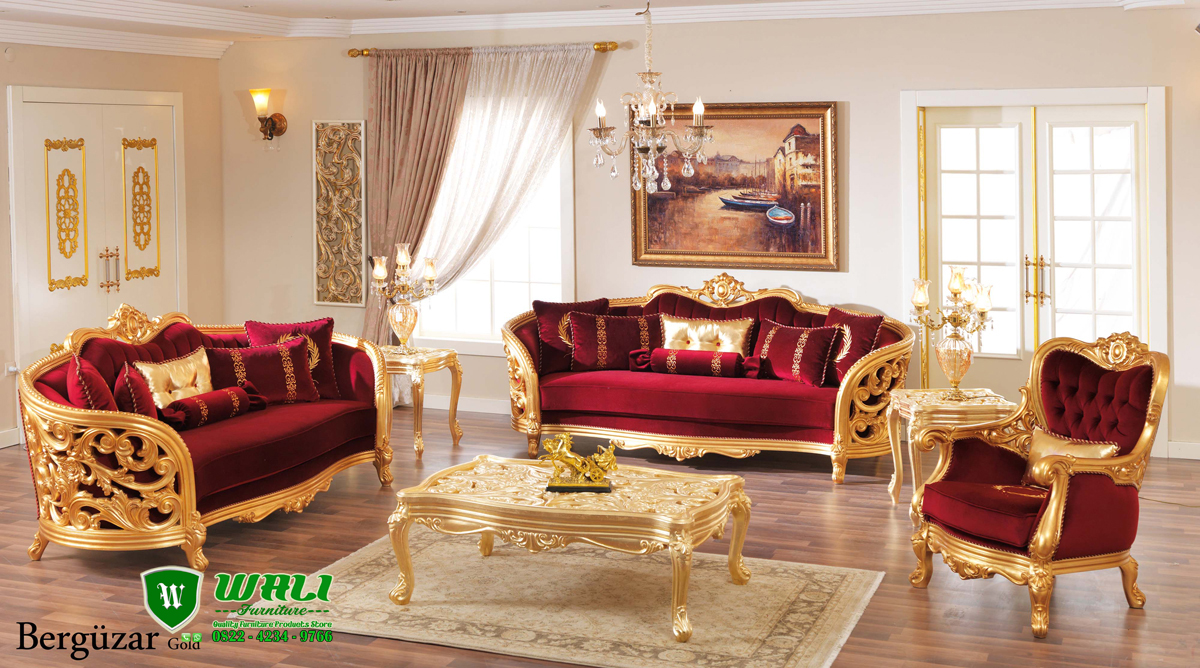Carving Chair: (15, 311, 386, 560), (496, 277, 907, 482), (933, 331, 1163, 621)
Carving Table: (392, 444, 776, 650)
